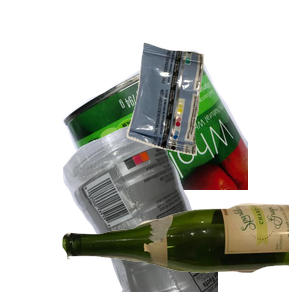glass: (60, 201, 300, 300)
metal: (60, 48, 300, 228)
plastic: (60, 120, 300, 300)
trash: (124, 40, 300, 188)
